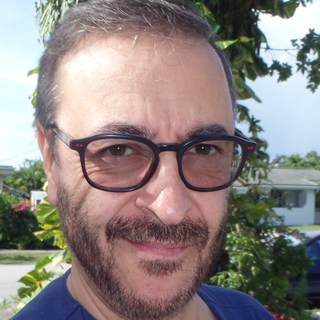eye: (97, 141, 143, 164), (185, 138, 224, 162)
